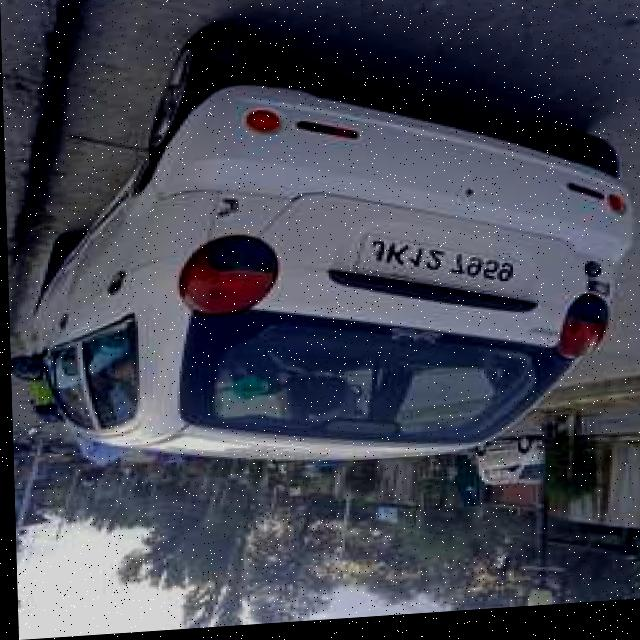plate: (347, 231, 519, 302)
